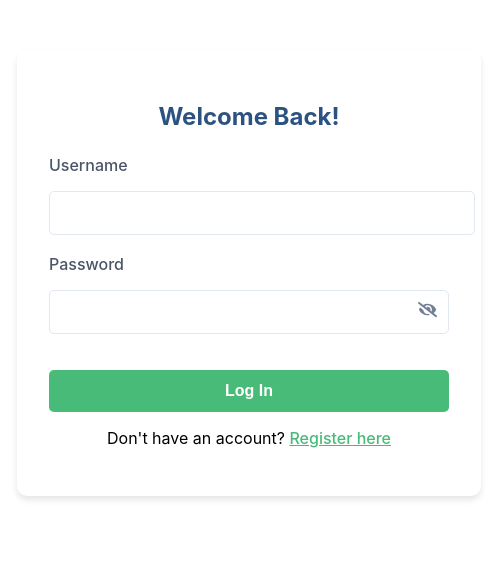
Test: Login Component › displays error message on failed login
Type "testuser" into the field labelled "Username". click: (262, 213)
box: [49, 191, 475, 235]
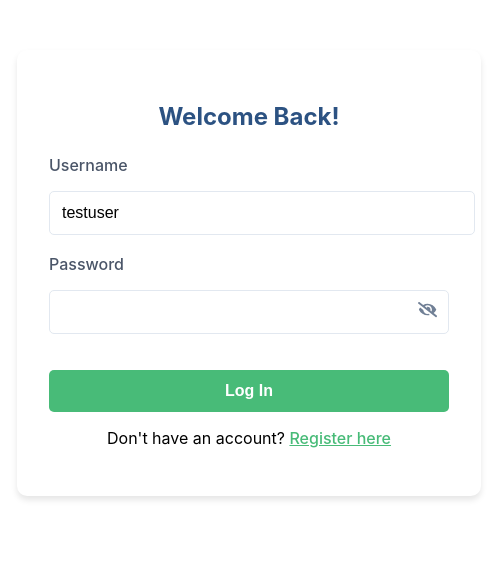
Type "wrongpassword" into the password field labelled "Password". click: (249, 312)
box: [49, 290, 449, 334]
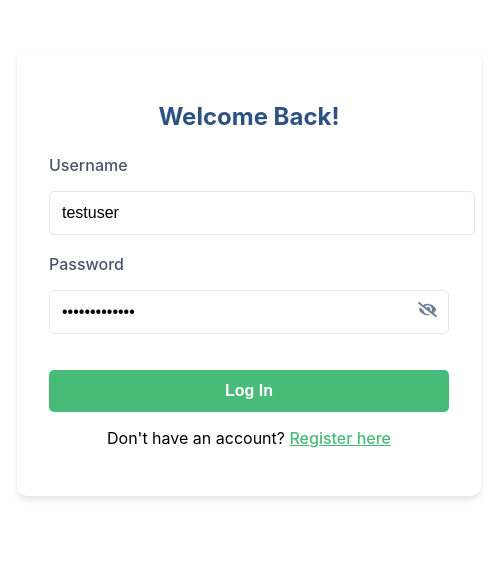
Click the button "Log In". click: (249, 391)
box: [49, 370, 449, 412]
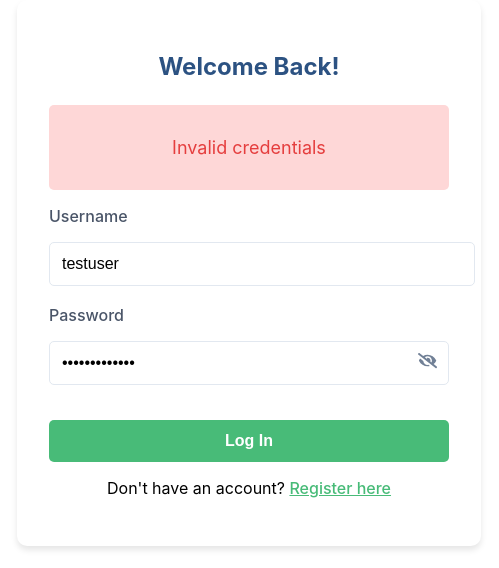
Now the text "Invalid credentials" is shown, box [49, 105, 449, 190]
